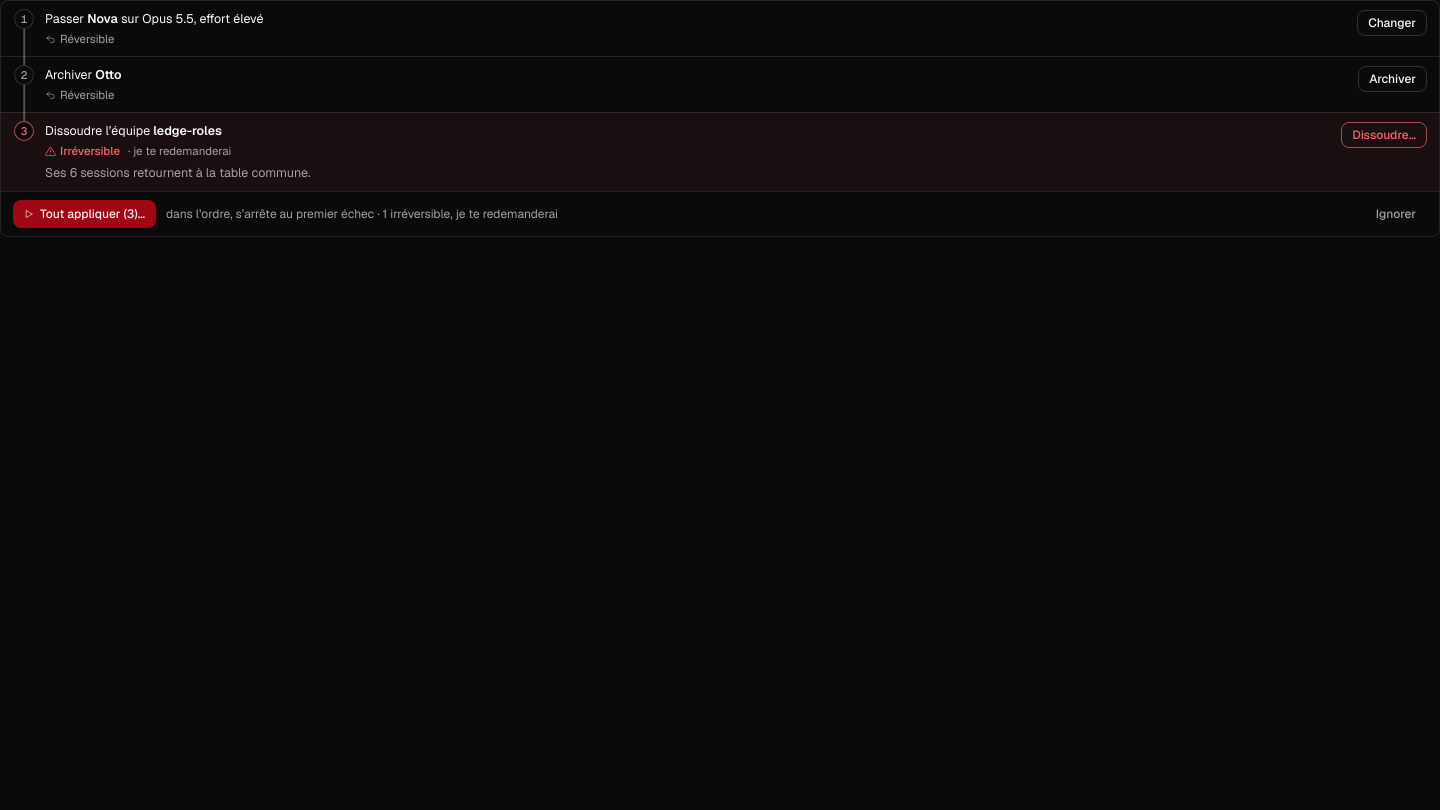
Scenario: the action card in the Desktop's words (#94) › a plan, as the mockup words it
Check: the element named "Plan de 3 actions" is shown, box [0,0,1439,237]
Check: the button "Changer" is shown, box [1357,10,1427,36]
Click the button "Tout appliquer (3)…".
click(85, 214)  # box [13,200,156,228]
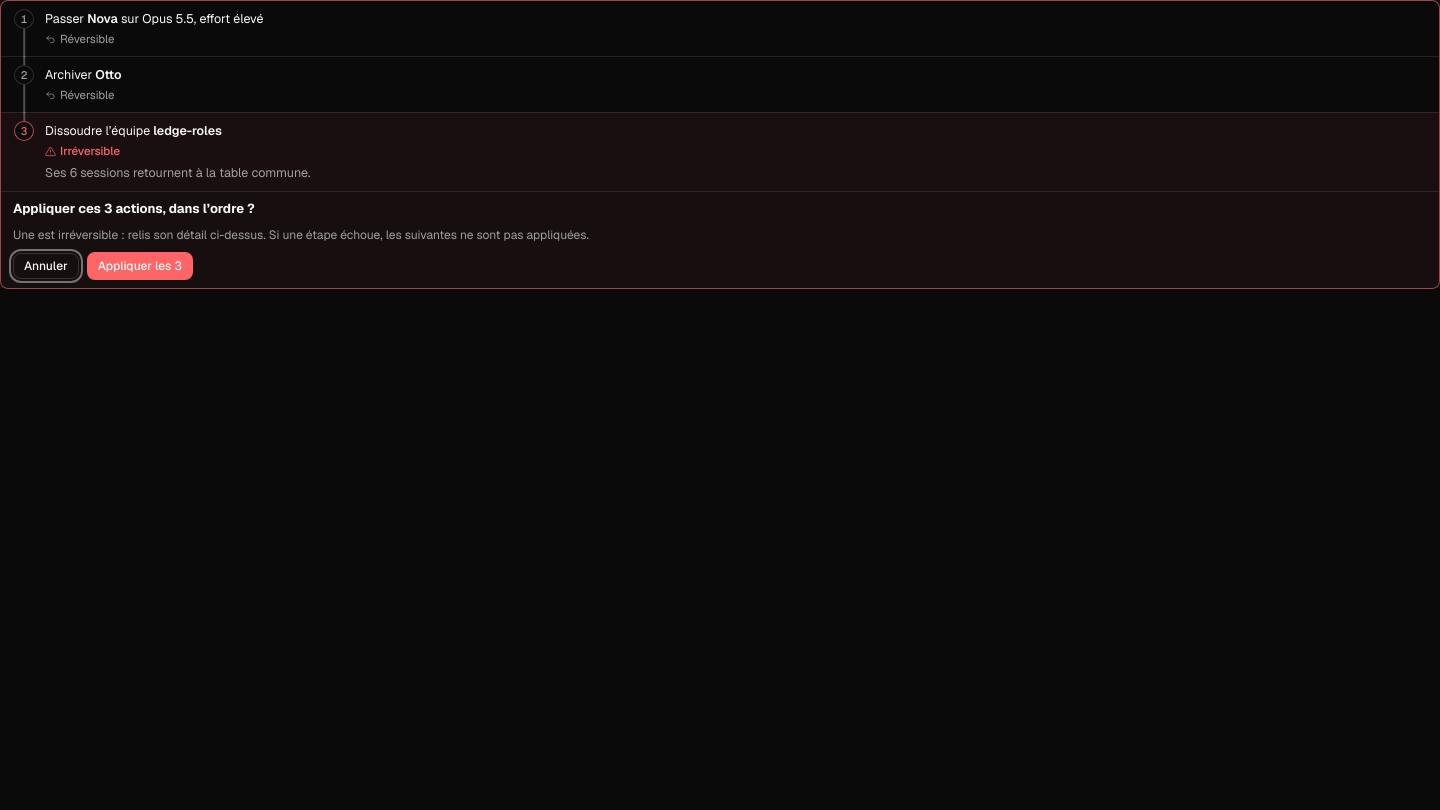
Check: the element named "Confirmation" shows "Appliquer ces 3 actions, dans l’ordre ?", box [13,200,255,217]
Check: the element named "Confirmation" shows "Une est irréversible : relis son détail ci-dessus. Si une étape échoue, les suivantes ne sont pas appliquées.", box [13,227,589,243]
Check: the button "Appliquer les 3" is shown, box [87,252,193,280]
